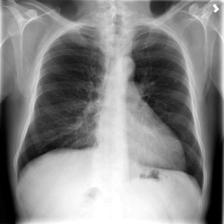normal: (11, 23, 208, 199)
